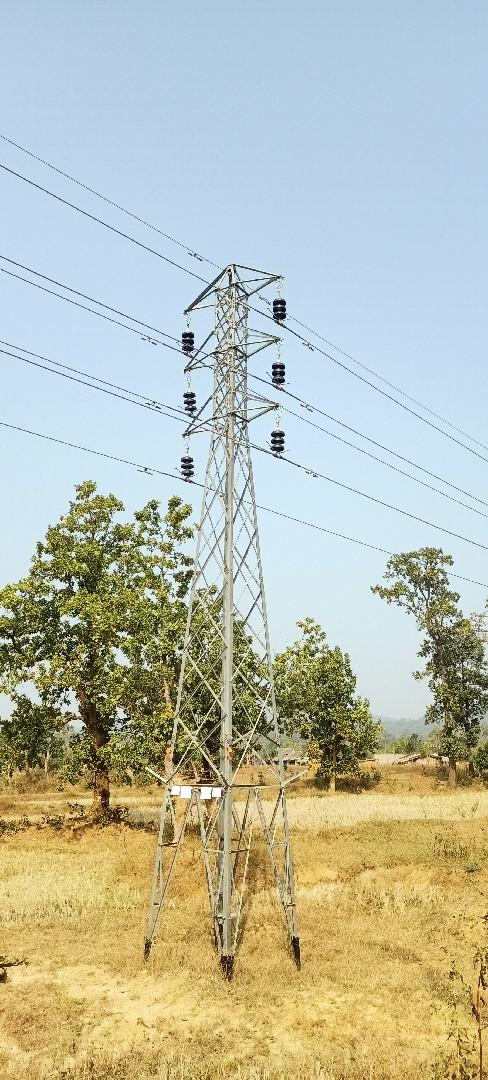GSM Antenna: (132, 258, 317, 926)
